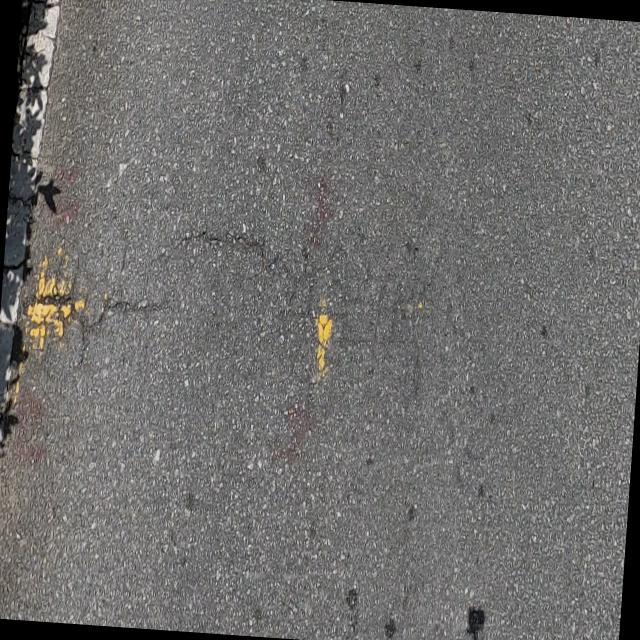Retak-Buaya: (297, 265, 429, 380)
Retak-Melintang: (173, 227, 292, 281), (25, 284, 154, 332)
